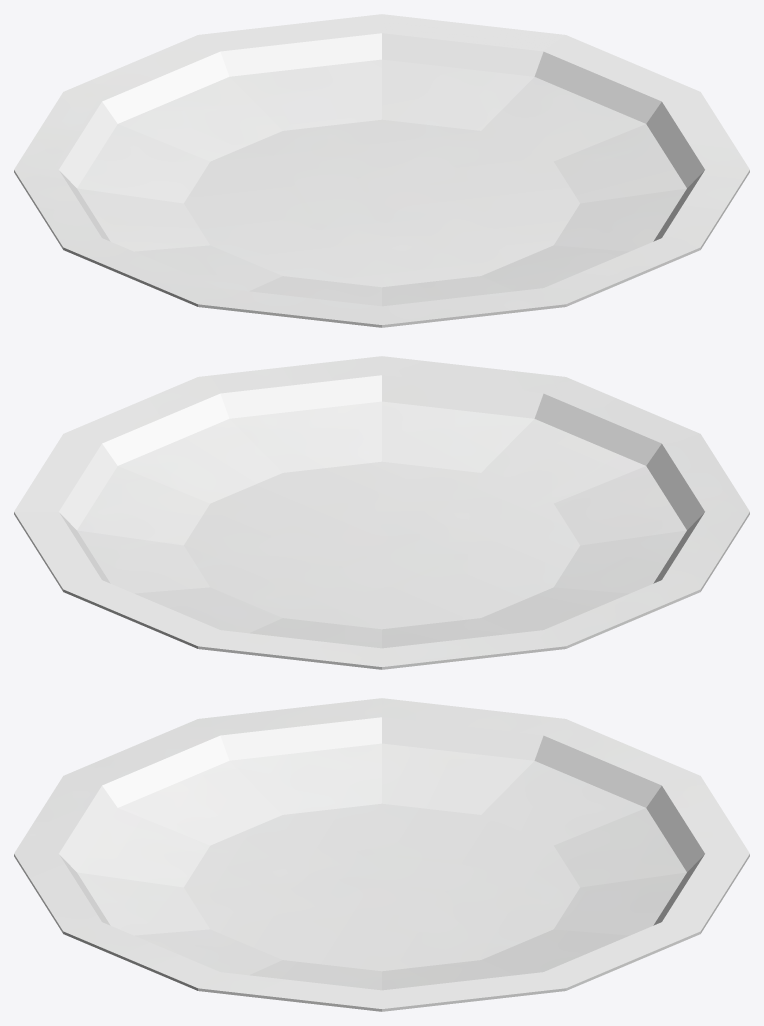
The model's file is Plate_2.fbx.
The picture shows the model from 3 angles, top to bottom: view 1: azimuth 30°, elevation 25°; view 2: azimuth 150°, elevation 25°; view 3: azimuth 270°, elevation 25°; orthographic projection.
Parts seen in each view (by area): view 1: Plate 2; view 2: Plate 2; view 3: Plate 2.
Boxes of the visible parts, x1,y1,x2,y2 form: Plate 2: [14, 14, 749, 327]; Plate 2: [14, 356, 749, 669]; Plate 2: [14, 698, 749, 1011].
Size of the model in its own units: 24.53 by 1.34 by 24.53.
